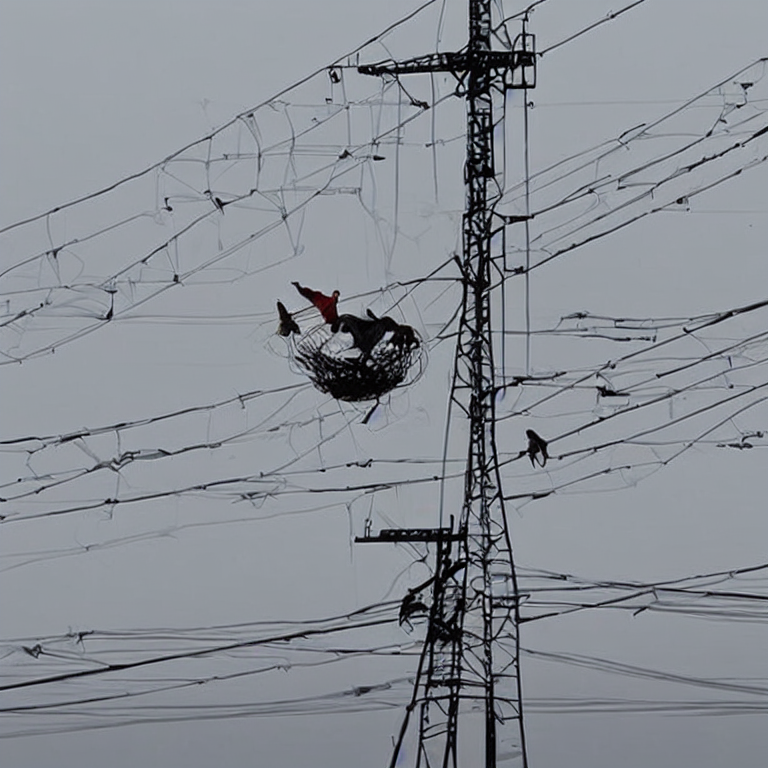nest: (299, 320, 412, 401)
